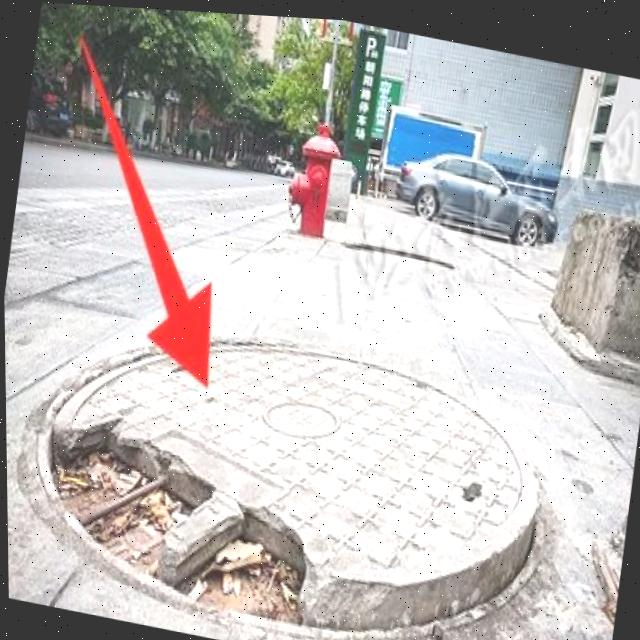manhole: (7, 277, 565, 640)
